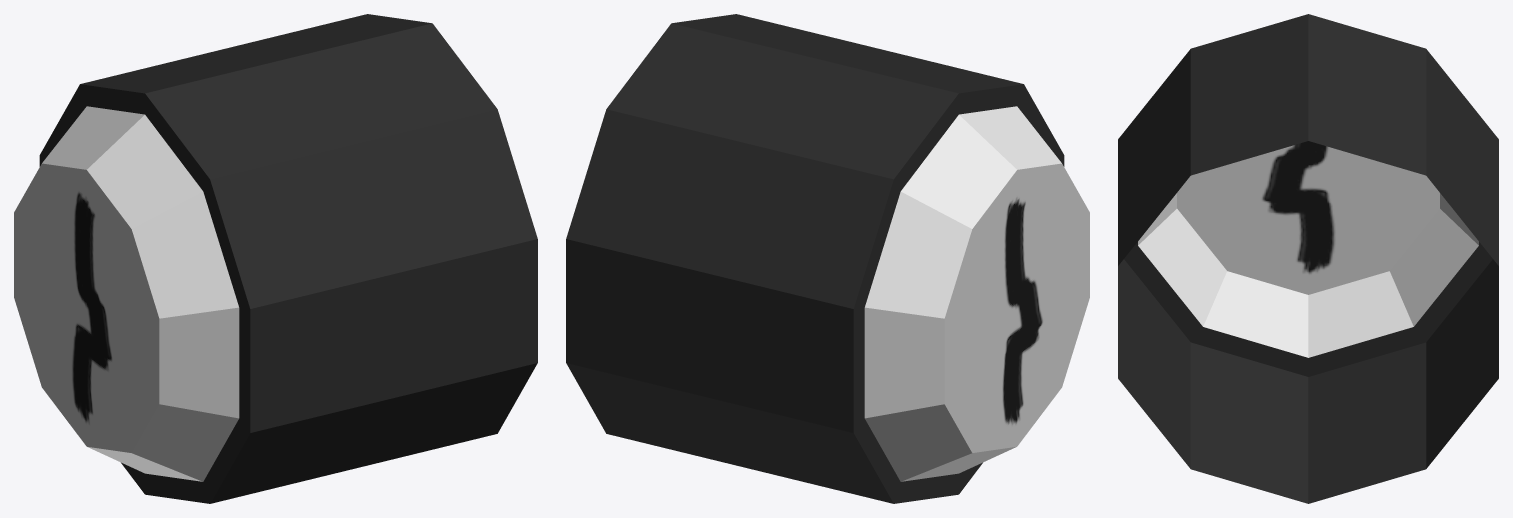
Rendered from Serrure.fbx.
3 renders of one model, left to right at view 1: azimuth 30°, elevation 25°; view 2: azimuth 150°, elevation 25°; view 3: azimuth 270°, elevation 25°, orthographic. The views are drawn at different scales.
Parts seen in each view (by area): view 1: pCylinder10; view 2: pCylinder10; view 3: pCylinder10.
Boxes of the visible parts, x1,y1,x2,y2 form: pCylinder10: (14, 14, 537, 503); pCylinder10: (566, 14, 1089, 503); pCylinder10: (1118, 14, 1498, 503).
Size of the model in its own units: 1.8 by 2 by 1.9.
Materials: 3 (1 with a texture image).
